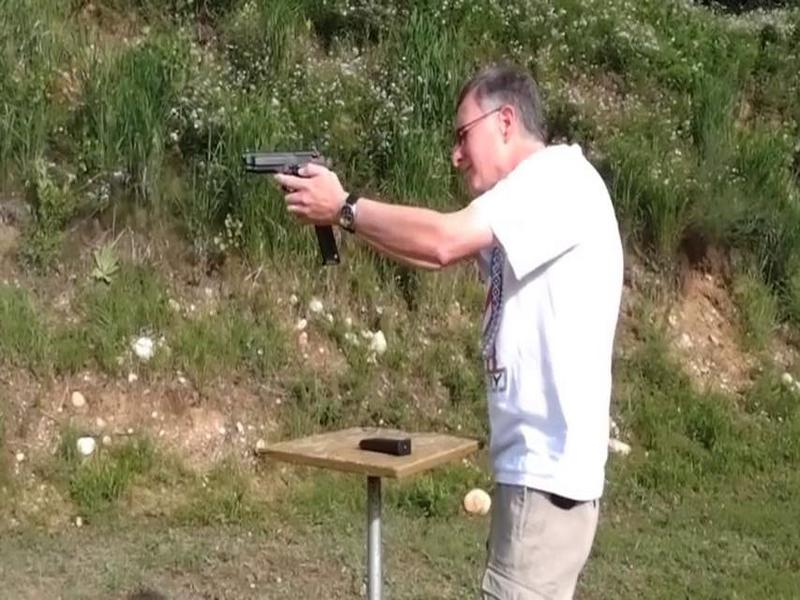Pistola: (234, 143, 338, 235)
